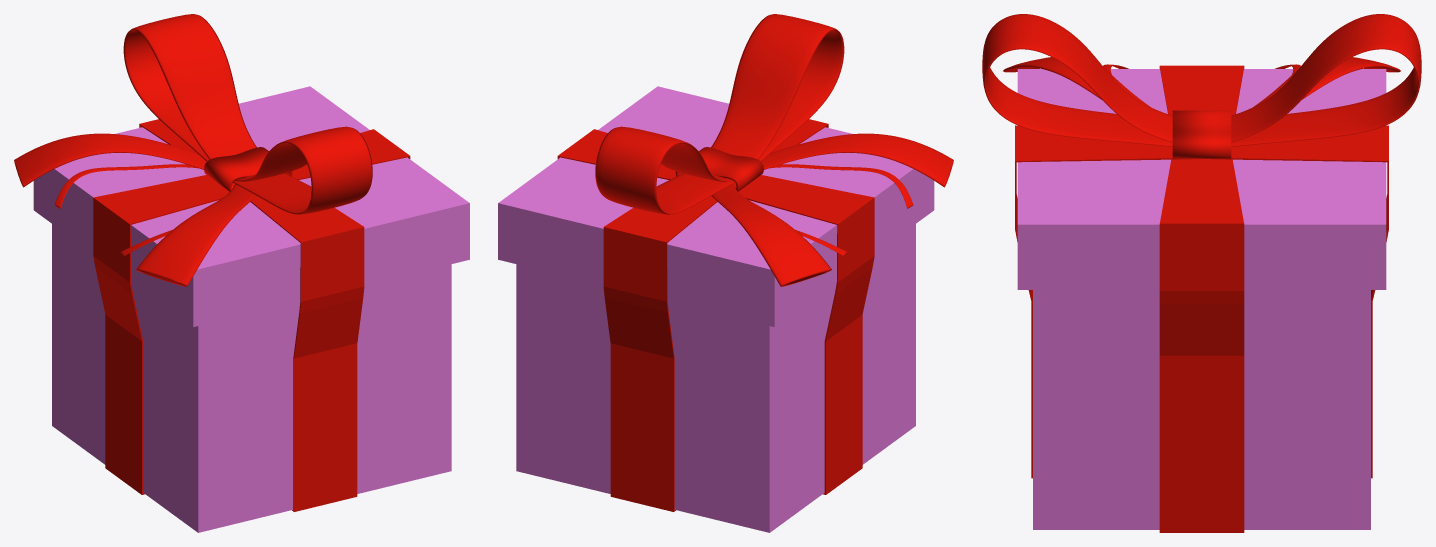
Rendered from box_red_gold.fbx.
3 renders of one model, left to right at view 1: azimuth 30°, elevation 25°; view 2: azimuth 150°, elevation 25°; view 3: azimuth 270°, elevation 25°, orthographic. The views are drawn at different scales.
Parts seen in each view (by area): view 1: Plane.006, Cube.007, Cube.008; view 2: Plane.006, Cube.007, Cube.008; view 3: Plane.006, Cube.007, Cube.008.
Boxes of the visible parts, <box> form: Plane.006: <box>14,14,410,511</box>; Cube.007: <box>52,224,451,532</box>; Cube.008: <box>33,86,469,326</box>; Plane.006: <box>557,14,953,511</box>; Cube.007: <box>516,224,915,532</box>; Cube.008: <box>498,86,934,326</box>; Plane.006: <box>982,14,1421,532</box>; Cube.007: <box>1033,290,1370,529</box>; Cube.008: <box>1017,69,1386,289</box>.
Size of the model in its own units: 247 by 281 by 260.
